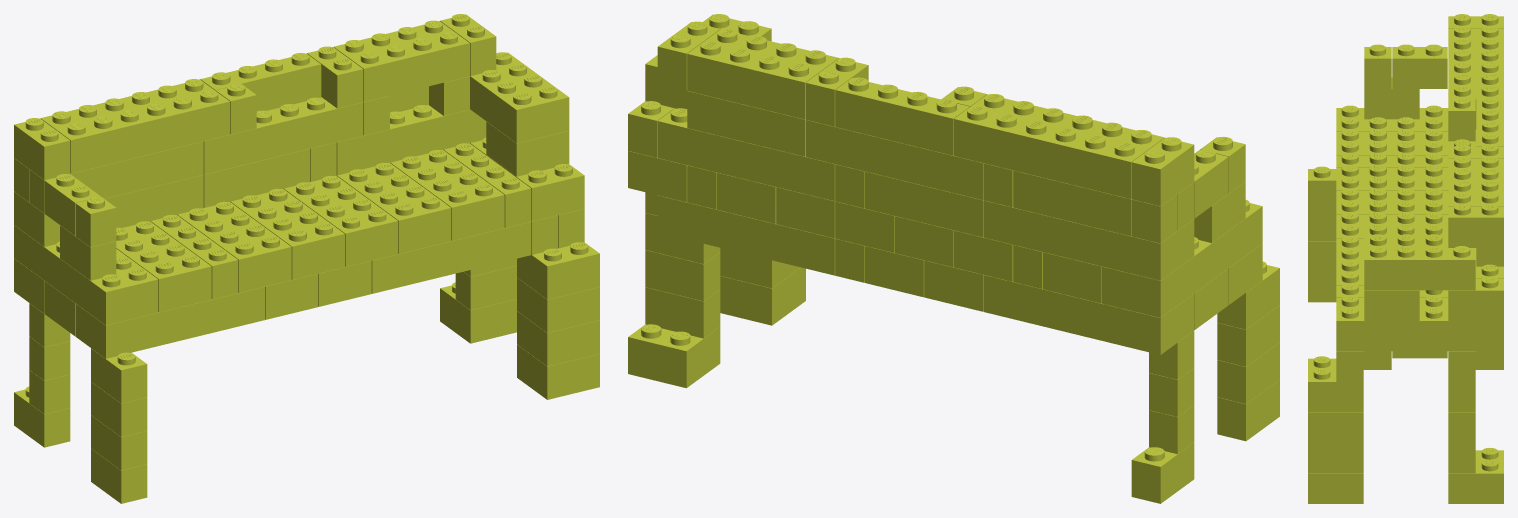
File: brickgpt_fbcf3009_1_bench_with_backrest_and_armres_seed4.glb
The picture shows the model from 3 angles, left to right: view 1: azimuth 30°, elevation 25°; view 2: azimuth 150°, elevation 25°; view 3: azimuth 270°, elevation 25°; orthographic projection. The views are drawn at different scales.
Parts seen in each view (by area): view 1: 00062_2456.DAT, 00058_3001.DAT, 00050_2456.DAT, 00028_2456.DAT, 00038_2456.DAT, 00046_3001.DAT, 00041_2456.DAT, 00023_2456.DAT, 00035_2456.DAT, 00031_2456.DAT, 00032_2456.DAT, 00034_2456.DAT (+41 smaller); view 2: 00062_2456.DAT, 00058_3001.DAT, 00026_2456.DAT, 00044_2456.DAT, 00041_2456.DAT, 00020_2456.DAT, 00050_2456.DAT, 00060_3010.DAT, 00038_2456.DAT, 00001_3003.DAT, 00048_3010.DAT, 00043_3001.DAT (+39 smaller); view 3: 00029_2456.DAT, 00046_3001.DAT, 00062_2456.DAT, 00037_2456.DAT, 00034_2456.DAT, 00035_2456.DAT, 00058_3001.DAT, 00033_2456.DAT, 00014_3003.DAT, 00001_3003.DAT, 00055_3004.DAT, 00057_3004.DAT (+30 smaller).
Part boxes in pixels (bbox=[...]): 00062_2456.DAT: bbox=[40, 79, 229, 173]; 00058_3001.DAT: bbox=[334, 20, 469, 101]; 00050_2456.DAT: bbox=[203, 97, 363, 174]; 00028_2456.DAT: bbox=[75, 286, 264, 358]; 00038_2456.DAT: bbox=[14, 225, 158, 325]; 00046_3001.DAT: bbox=[470, 52, 569, 143]; 00041_2456.DAT: bbox=[336, 105, 486, 175]; 00023_2456.DAT: bbox=[371, 222, 531, 293]; 00035_2456.DAT: bbox=[177, 201, 291, 292]; 00031_2456.DAT: bbox=[390, 149, 504, 240]; 00032_2456.DAT: bbox=[336, 162, 451, 253]; 00034_2456.DAT: bbox=[230, 188, 344, 279]; 00062_2456.DAT: bbox=[954, 94, 1164, 198]; 00058_3001.DAT: bbox=[687, 28, 838, 119]; 00026_2456.DAT: bbox=[983, 275, 1194, 354]; 00044_2456.DAT: bbox=[983, 200, 1194, 280]; 00041_2456.DAT: bbox=[657, 108, 835, 200]; 00020_2456.DAT: bbox=[657, 195, 835, 275]; 00050_2456.DAT: bbox=[806, 120, 983, 199]; 00060_3010.DAT: bbox=[835, 77, 969, 155]; 00038_2456.DAT: bbox=[1102, 200, 1262, 317]; 00001_3003.DAT: bbox=[628, 324, 720, 388]; 00048_3010.DAT: bbox=[687, 91, 805, 156]; 00043_3001.DAT: bbox=[865, 171, 983, 237]; 00029_2456.DAT: bbox=[1336, 295, 1503, 351]; 00046_3001.DAT: bbox=[1364, 234, 1475, 290]; 00062_2456.DAT: bbox=[1448, 26, 1503, 129]; 00037_2456.DAT: bbox=[1336, 129, 1448, 155]; 00034_2456.DAT: bbox=[1336, 188, 1448, 214]; 00035_2456.DAT: bbox=[1336, 165, 1448, 190]; 00058_3001.DAT: bbox=[1448, 156, 1503, 206]; 00033_2456.DAT: bbox=[1336, 212, 1448, 238]; 00014_3003.DAT: bbox=[1308, 356, 1363, 412]; 00001_3003.DAT: bbox=[1448, 448, 1503, 503]; 00055_3004.DAT: bbox=[1392, 44, 1447, 88]; 00057_3004.DAT: bbox=[1448, 203, 1503, 247].
Size of the model in its own units: 0.1438 by 0.0879 by 0.0558.
